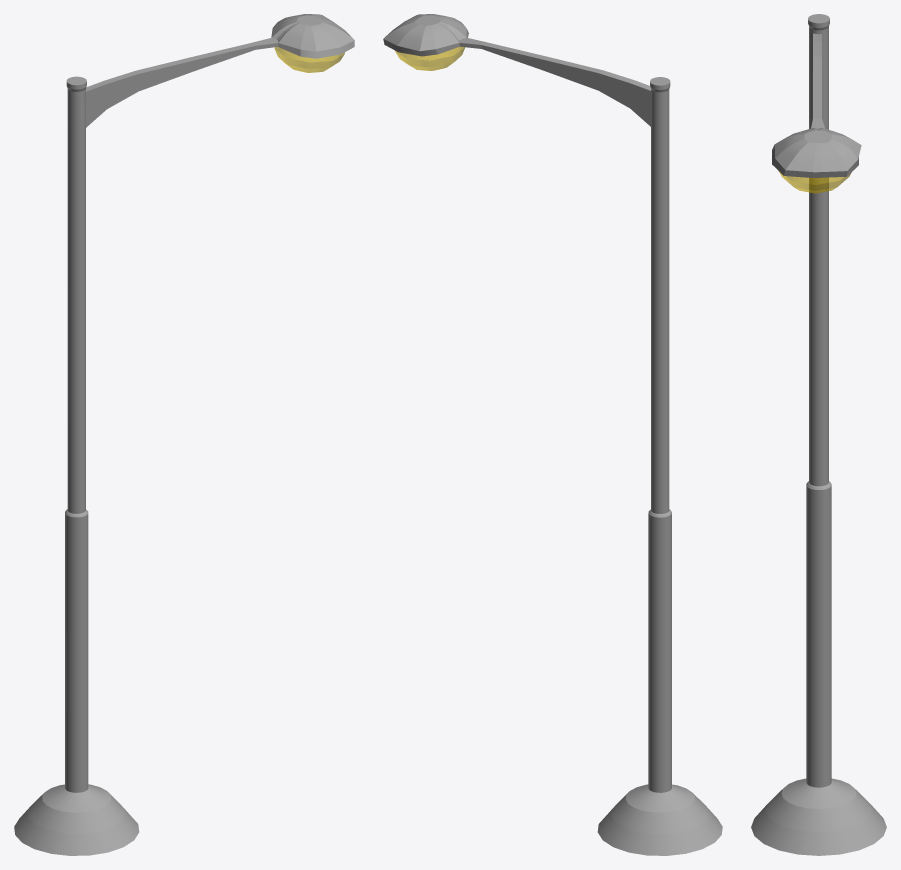
The model's file is Lamppost.fbx.
3 renders of one model, left to right at view 1: azimuth 30°, elevation 25°; view 2: azimuth 150°, elevation 25°; view 3: azimuth 270°, elevation 25°, orthographic. The views are drawn at different scales.
Visible parts, largest first — view 1: pCylinder1, pSphere1; view 2: pCylinder1, pSphere1; view 3: pCylinder1, pSphere1.
Boxes of the visible parts, left/top/right/bottom form: pCylinder1: left=14, top=14, right=354, bottom=855; pSphere1: left=274, top=47, right=344, bottom=72; pCylinder1: left=383, top=14, right=722, bottom=855; pSphere1: left=395, top=46, right=464, bottom=70; pCylinder1: left=751, top=14, right=886, bottom=855; pSphere1: left=779, top=171, right=851, bottom=193.
Size of the model in its own units: 61.9 by 139 by 21.06.
